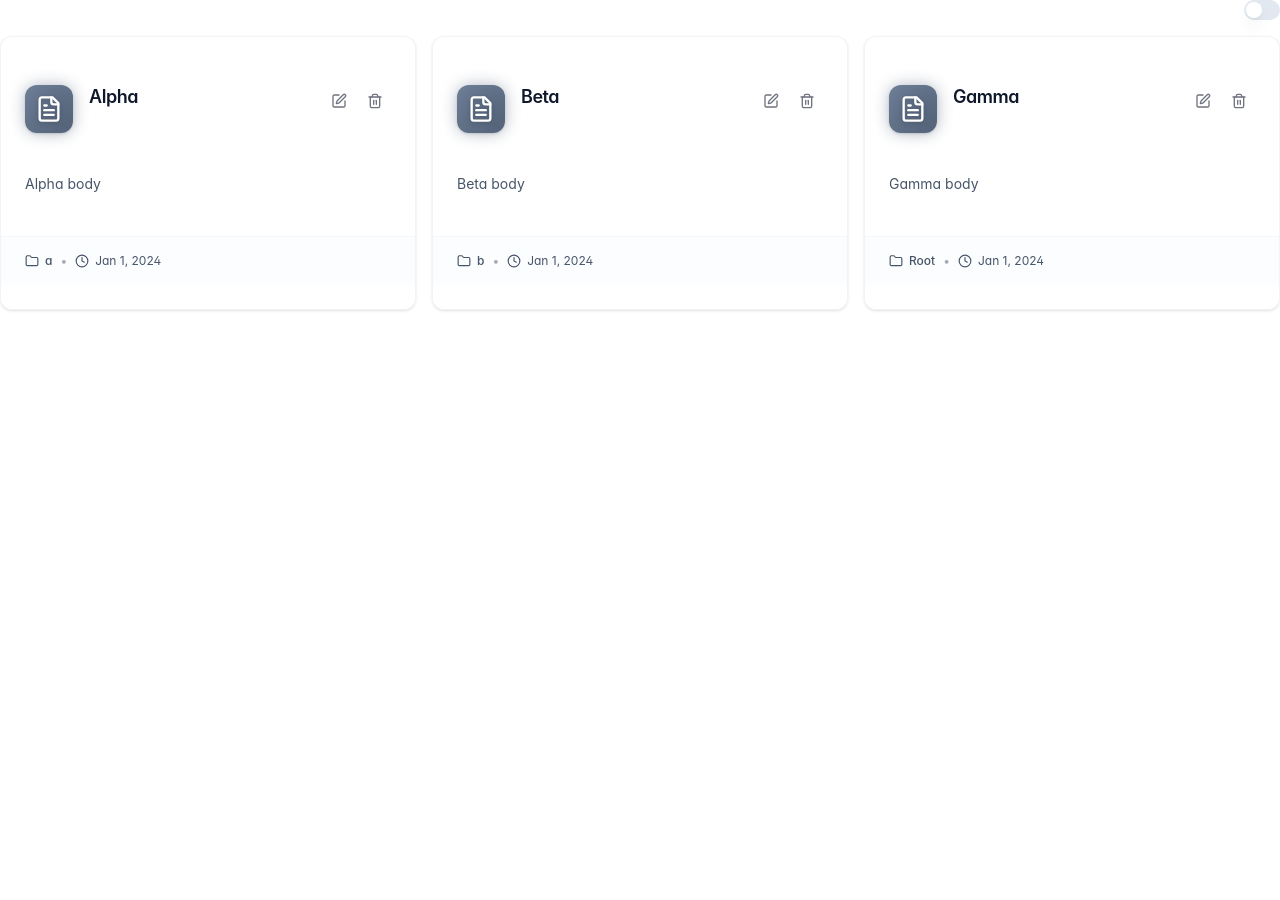
Test: DocumentGrid › multi-select › bulk-deletes the selected documents
Click the switch at (1262, 10), box [1244, 0, 1279, 20]
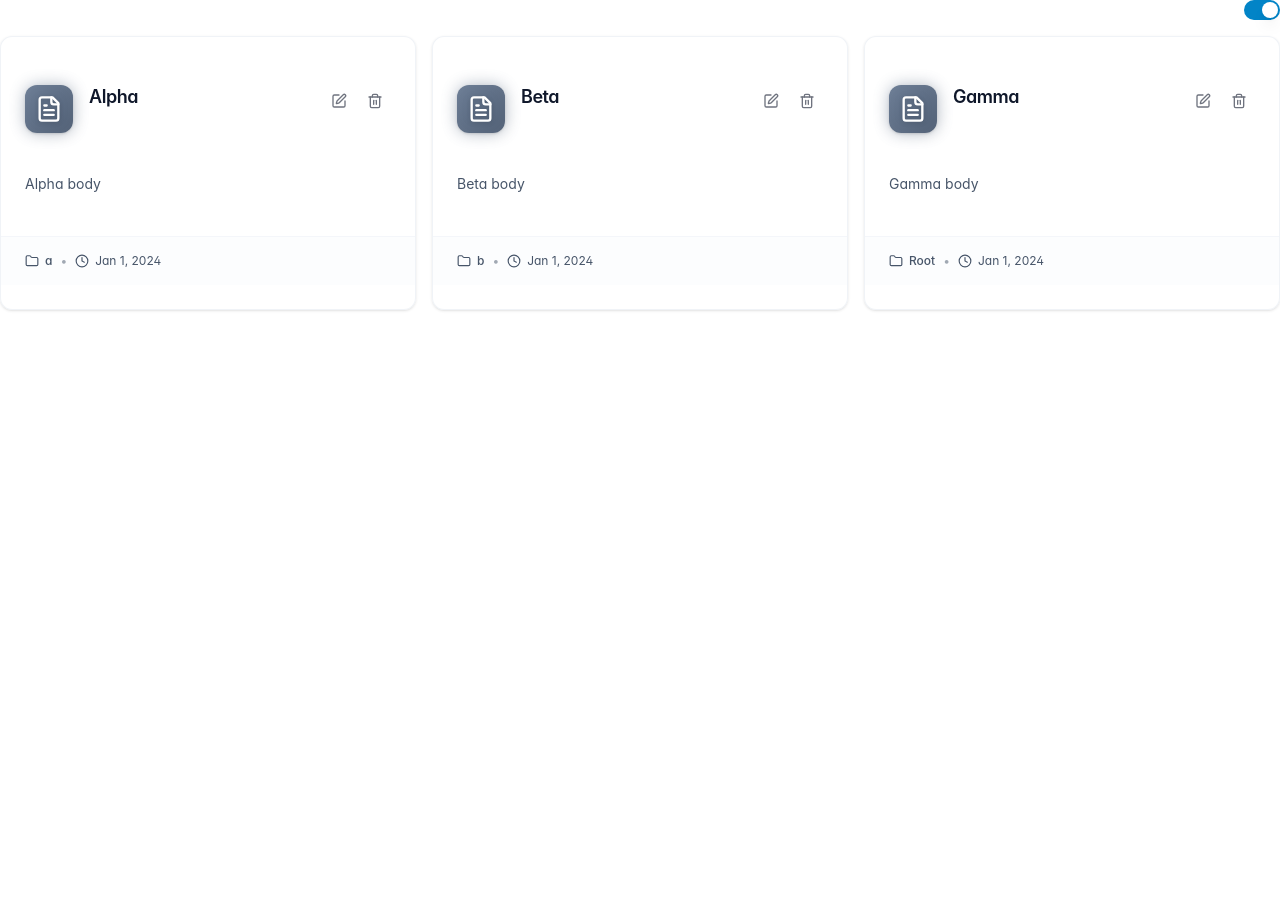
Click the element with test id "document-card" at (208, 173), box [0, 36, 416, 310]
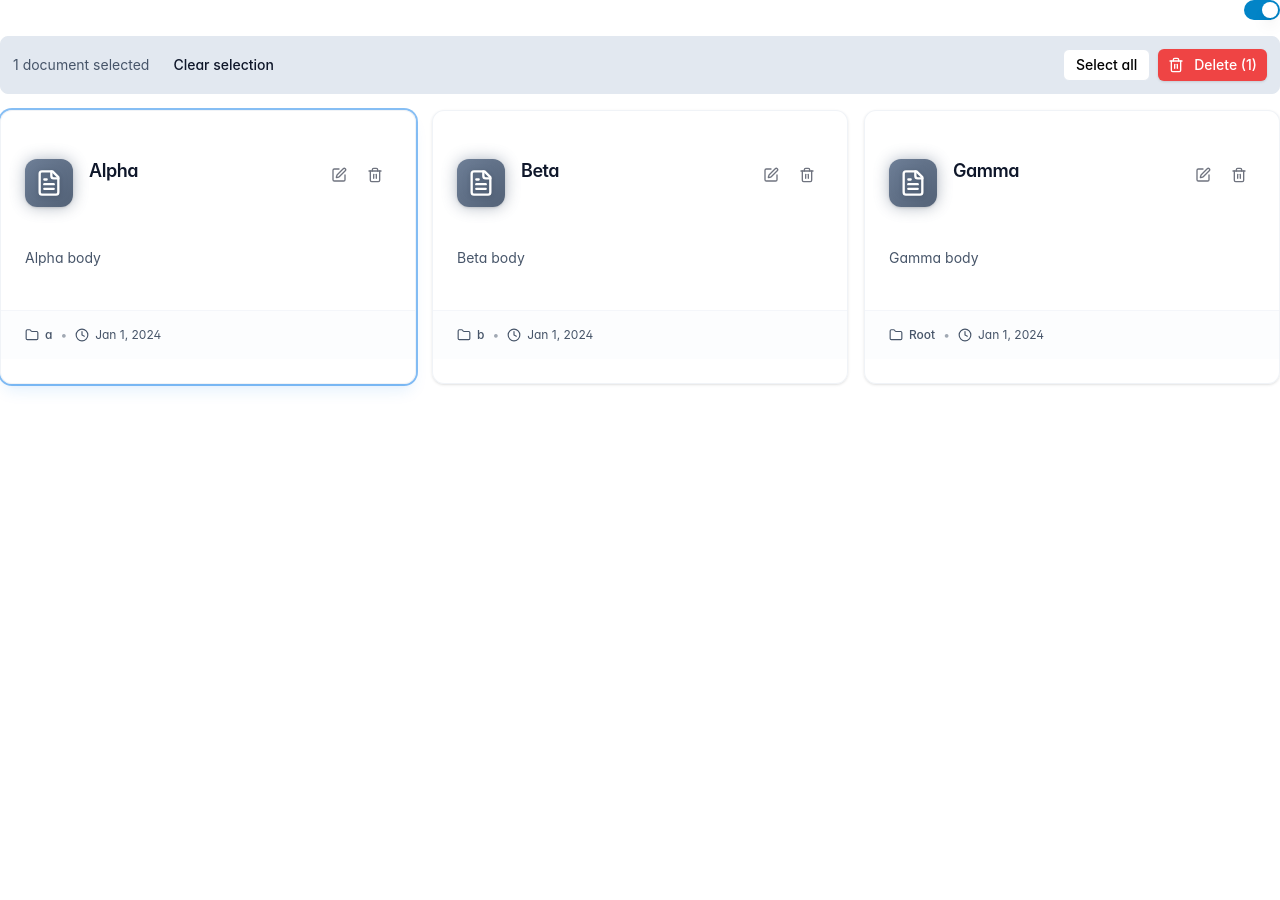
Click the element with test id "document-card" at (1072, 247), box [864, 110, 1279, 384]
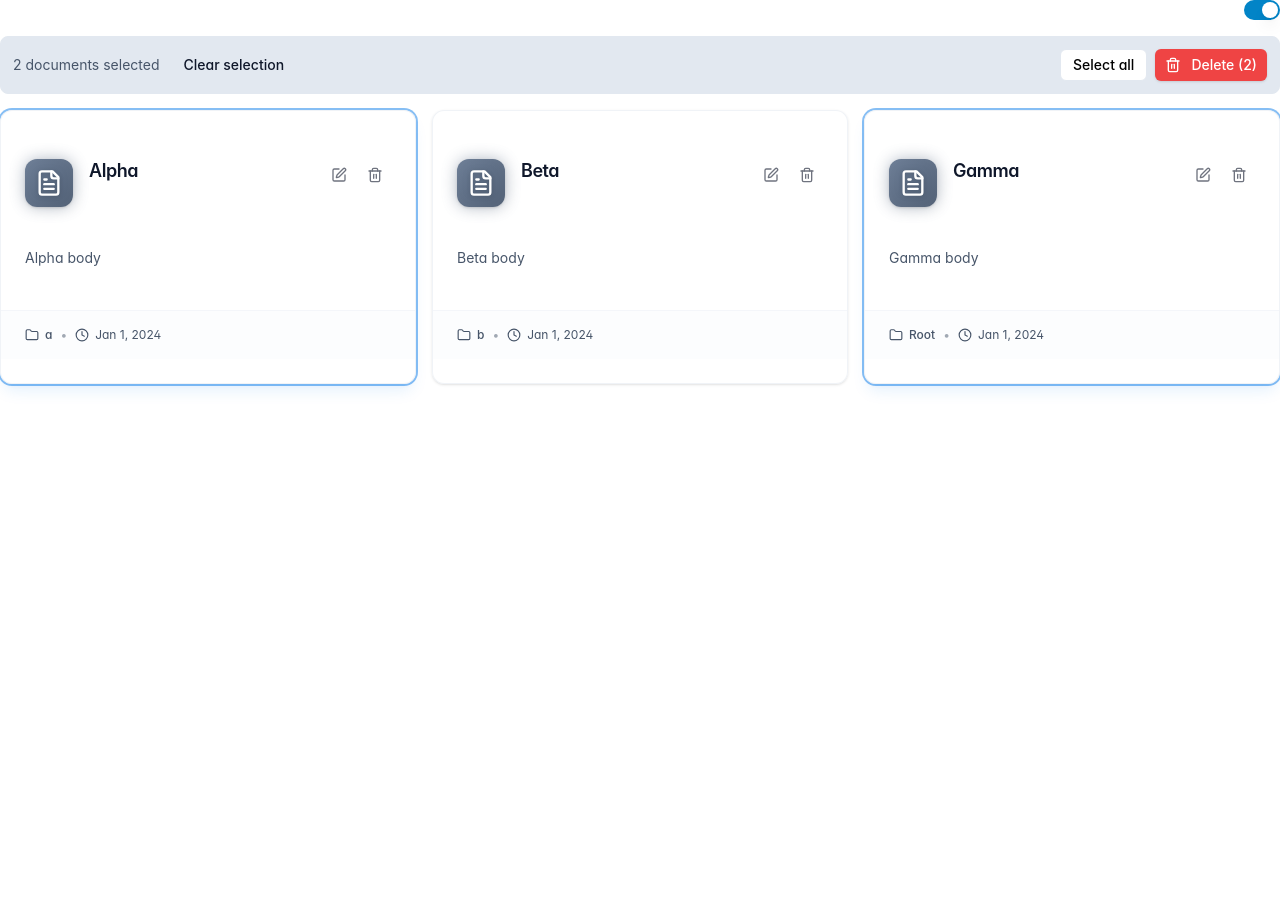
Click the button "Delete (2)" at (1211, 65), box [1155, 49, 1267, 81]
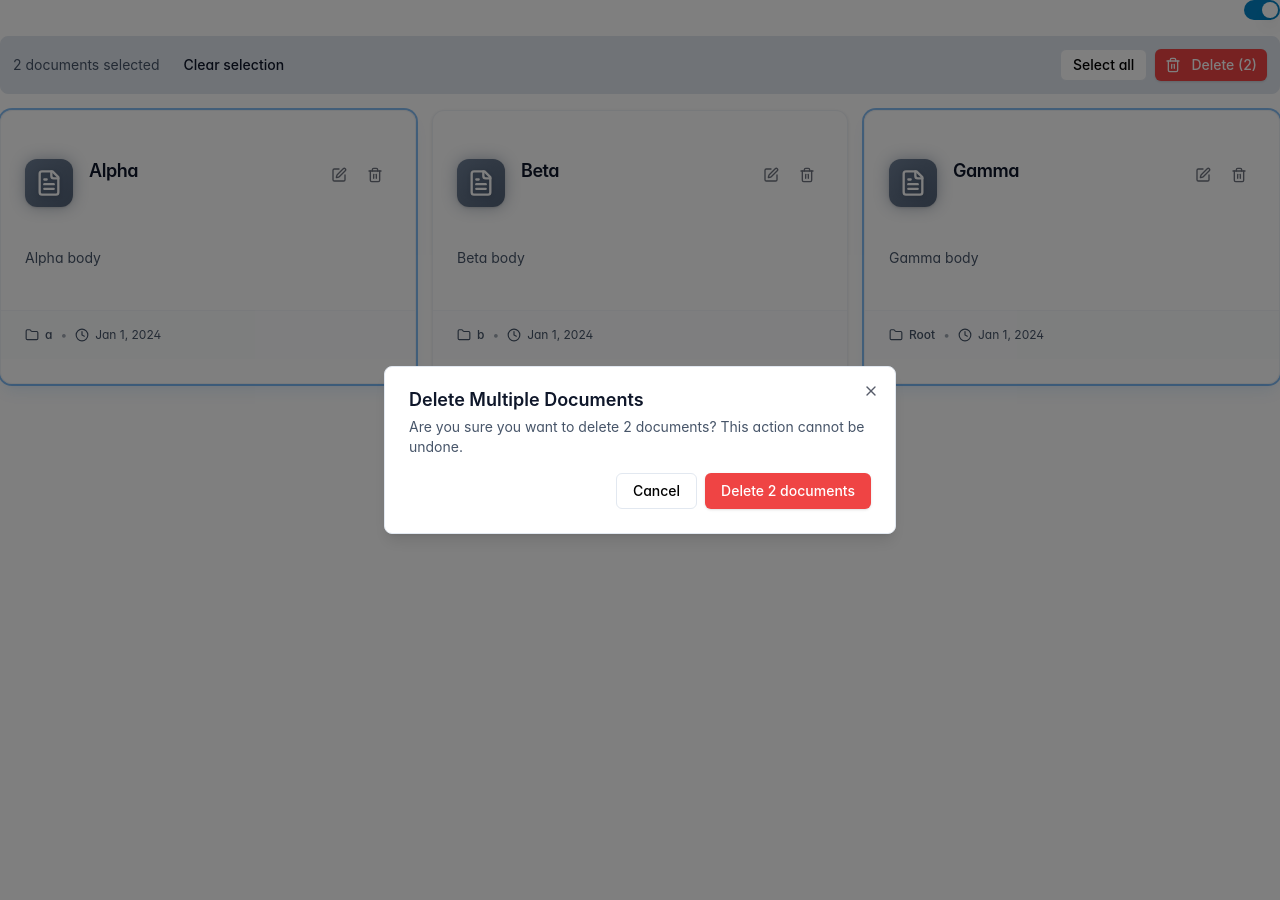
Expected: the heading "Delete Multiple Documents" is shown, [409, 389, 644, 410]
Click the button "Delete 2 documents" at (788, 491), box [705, 473, 871, 509]
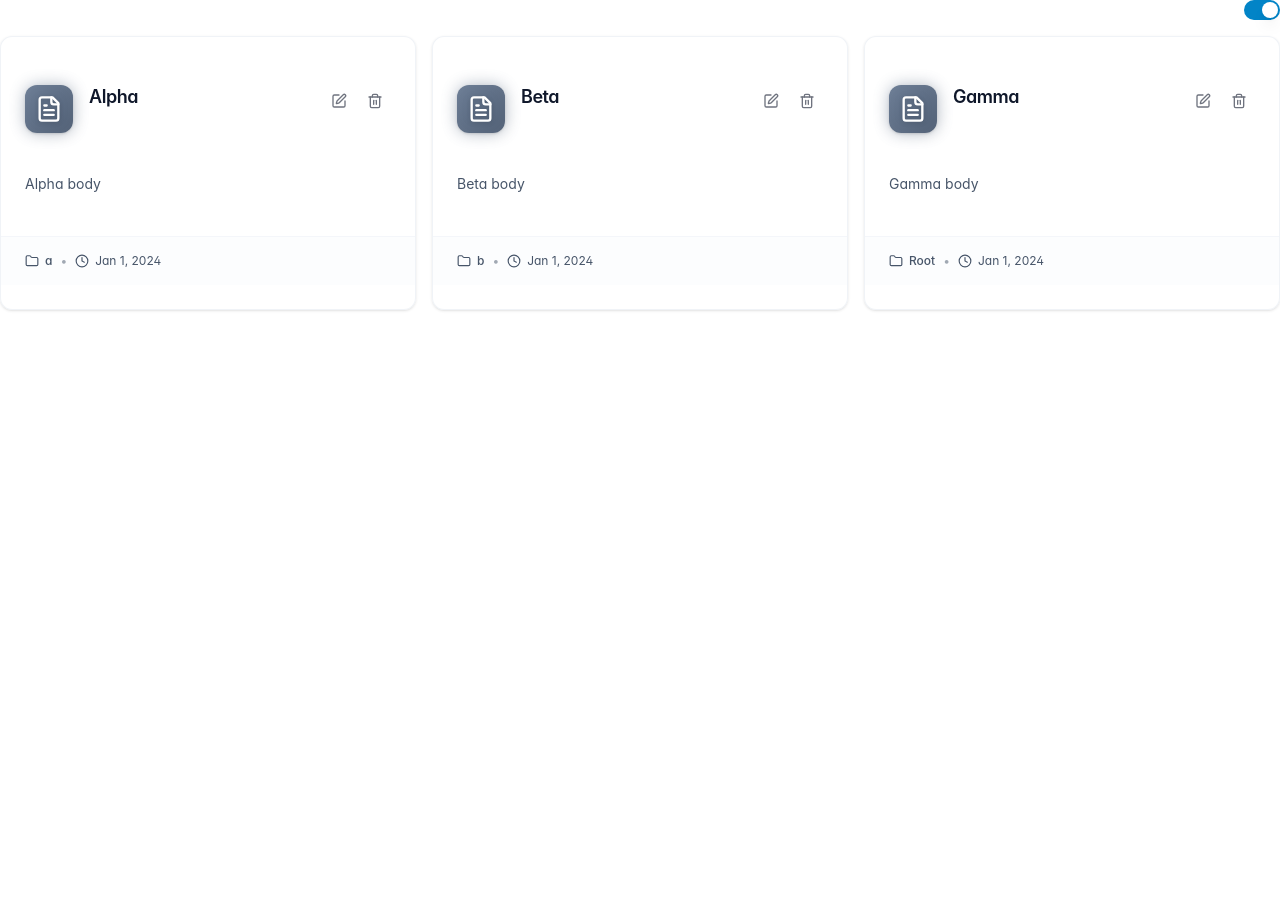
Expected: the text "selected" is gone
